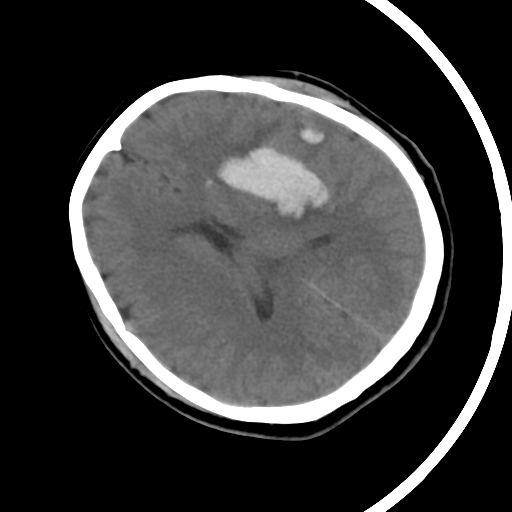a: (194, 125, 338, 230)
